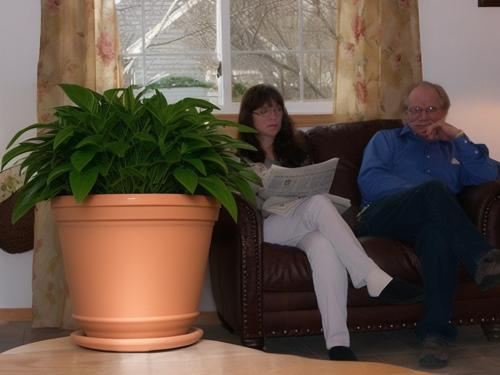person: (203, 81, 428, 367), (360, 78, 500, 370)
person/foot: (367, 278, 429, 304), (477, 249, 500, 291), (419, 338, 451, 368), (327, 345, 357, 361)
person/hand: (418, 121, 459, 140), (238, 195, 265, 217)
person/head: (404, 82, 449, 137), (244, 83, 284, 135)
pottedplant: (3, 85, 263, 352)
sofa: (1, 116, 500, 349)
